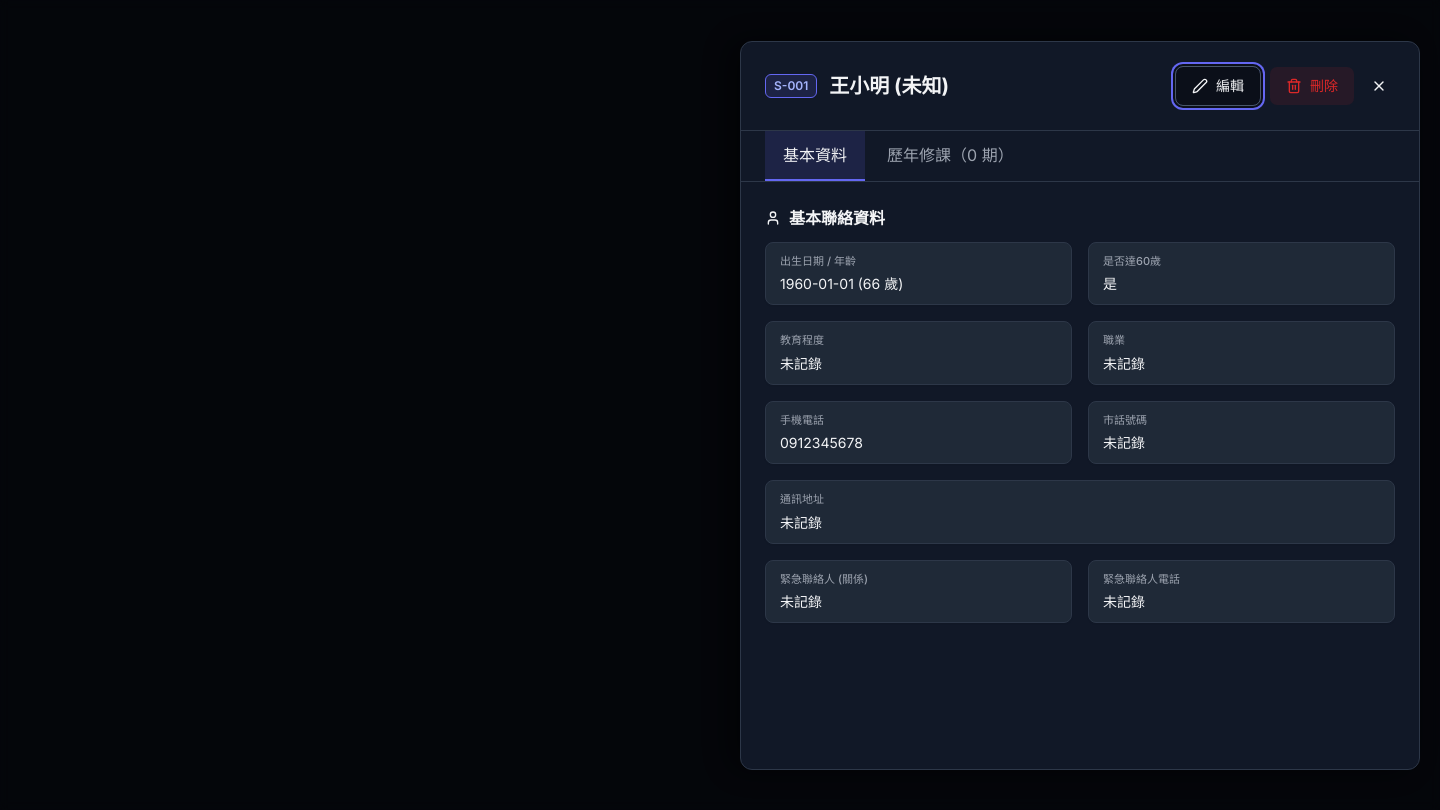
Test: Student detail components › closes a student edit form when the current role loses edit permission
What coordinates should you click on to do the following:
click the button with class "btn-edit"
I would click on:
 (1218, 86)
Its box is [1175,66,1261,106].
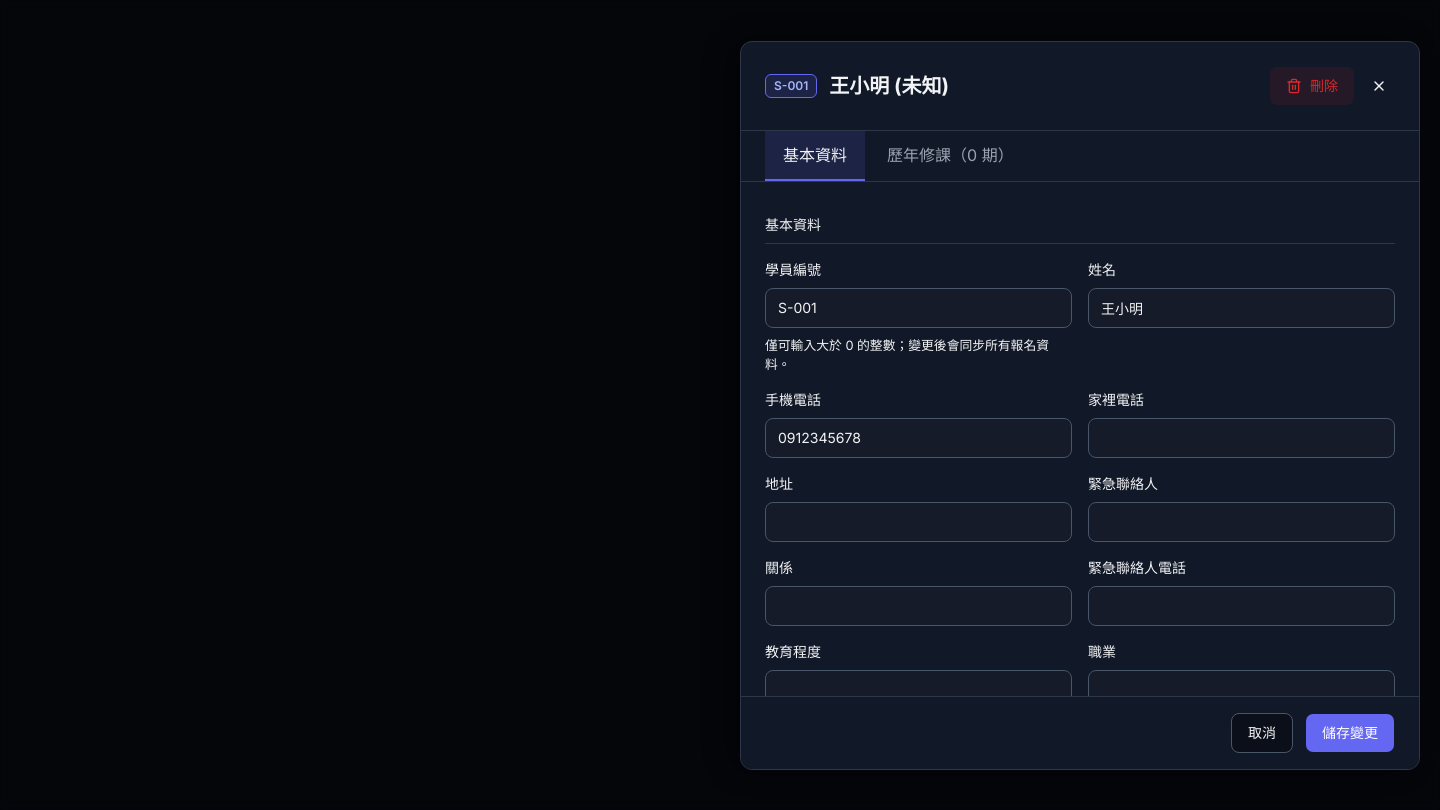
Result: the field named "name" below "姓名" is shown at [1088,288,1395,328]
